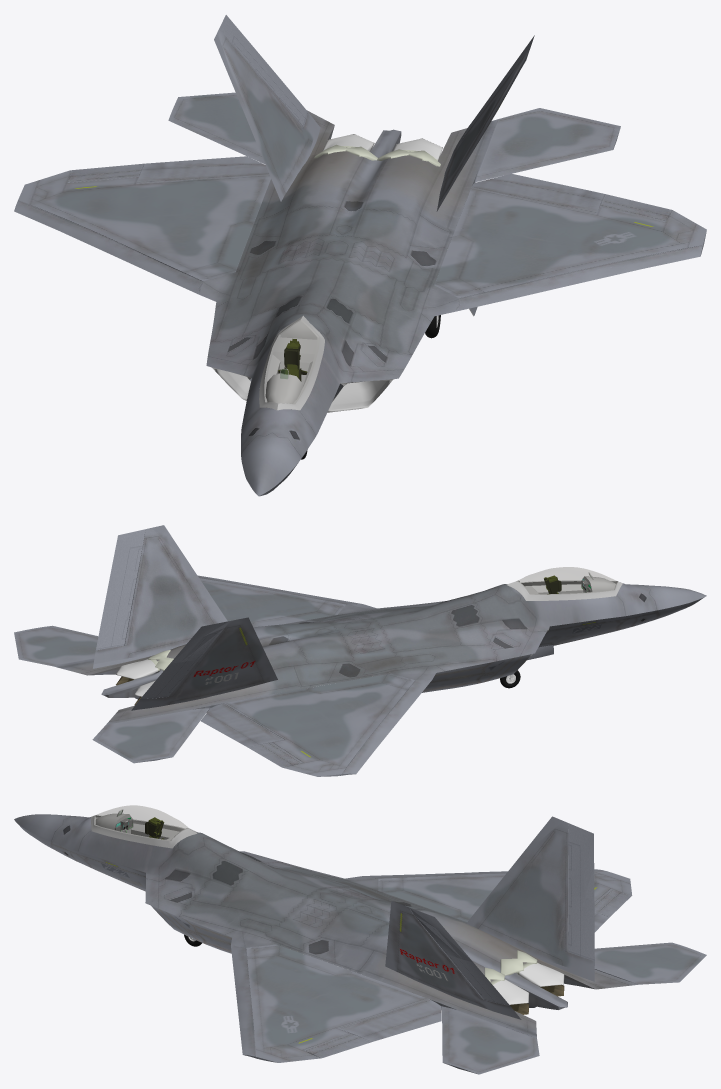
3 renders of one model, top to bottom at view 1: azimuth 30°, elevation 25°; view 2: azimuth 150°, elevation 25°; view 3: azimuth 270°, elevation 25°, orthographic. The views are drawn at different scales.
Visible parts, largest first — view 1: Fuselage-FACES, Left_Wing-FACES, Right_Wing-FACES, Left_Stabilizer-FACES, Right_Keel-FACES, Right_Stabilizer-FACES, Cabin_Glass-FACES, Left_Prewing-FACES, Right_Prewing-FACES, Left_Eleron01-FACES, Right_Eleron01-FACES, Left_Keel-FACES (+7 smaller); view 2: Fuselage-FACES (×3), Right_Wing-FACES, Left_Keel-FACES, Right_Keel-FACES, Left_Wing-FACES, Right_Stabilizer-FACES, Left_Ruler-FACES, Left_Stabilizer-FACES, Cabin_Glass-FACES, Right_Ruler-FACES, Right_Eleron01-FACES, Right_Prewing-FACES (+5 smaller); view 3: Fuselage-FACES (×3), Left_Wing-FACES, Right_Keel-FACES, Left_Keel-FACES, Right_Wing-FACES, Left_Stabilizer-FACES, Right_Stabilizer-FACES, Right_Ruler-FACES, Left_Eleron01-FACES, Cabin_Glass-FACES, Left_Ruler-FACES, Left_Prewing-FACES (+7 smaller).
Boxes of the visible parts, bbox=[...] form: Fuselage-FACES: bbox=[199, 110, 497, 495]; Left_Wing-FACES: bbox=[434, 187, 706, 298]; Right_Wing-FACES: bbox=[18, 170, 270, 281]; Left_Stabilizer-FACES: bbox=[475, 108, 620, 182]; Right_Keel-FACES: bbox=[214, 30, 320, 201]; Right_Stabilizer-FACES: bbox=[168, 92, 265, 164]; Cabin_Glass-FACES: bbox=[265, 320, 318, 403]; Left_Prewing-FACES: bbox=[455, 245, 703, 311]; Right_Prewing-FACES: bbox=[14, 200, 202, 294]; Left_Eleron01-FACES: bbox=[472, 173, 604, 213]; Right_Eleron01-FACES: bbox=[136, 156, 268, 183]; Left_Keel-FACES: bbox=[436, 50, 529, 211]; Fuselage-FACES (×3): bbox=[52, 582, 706, 724]; Right_Wing-FACES: bbox=[224, 673, 415, 776]; Left_Keel-FACES: bbox=[93, 525, 227, 668]; Right_Keel-FACES: bbox=[131, 617, 277, 710]; Left_Wing-FACES: bbox=[199, 578, 345, 627]; Right_Stabilizer-FACES: bbox=[92, 708, 209, 763]; Left_Ruler-FACES: bbox=[96, 529, 145, 650]; Left_Stabilizer-FACES: bbox=[14, 625, 98, 665]; Cabin_Glass-FACES: bbox=[518, 567, 617, 594]; Right_Ruler-FACES: bbox=[140, 621, 229, 698]; Right_Eleron01-FACES: bbox=[201, 703, 284, 747]; Right_Prewing-FACES: bbox=[340, 679, 431, 775]; Fuselage-FACES (×3): bbox=[14, 814, 638, 1038]; Left_Wing-FACES: bbox=[246, 944, 428, 1062]; Right_Keel-FACES: bbox=[466, 816, 594, 981]; Left_Keel-FACES: bbox=[385, 901, 521, 1019]; Right_Wing-FACES: bbox=[378, 871, 632, 921]; Left_Stabilizer-FACES: bbox=[442, 1006, 539, 1074]; Right_Stabilizer-FACES: bbox=[594, 942, 706, 984]; Right_Ruler-FACES: bbox=[568, 823, 594, 961]; Left_Eleron01-FACES: bbox=[338, 999, 441, 1041]; Cabin_Glass-FACES: bbox=[95, 805, 187, 840]; Left_Ruler-FACES: bbox=[409, 907, 509, 1005]; Left_Prewing-FACES: bbox=[231, 945, 257, 1058].
Bounding box in the file's own units: 15.24 × 5.04 × 17.37.
Materials: 47 (29 with a texture image).
